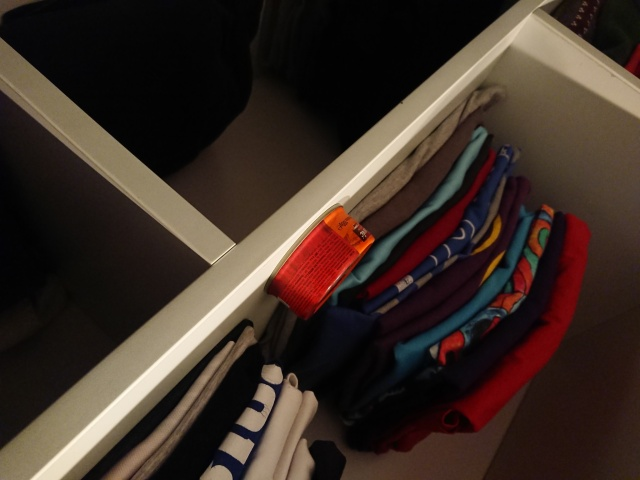Gavrilovic Pork Liver Pate 100g: (261, 201, 378, 323)
